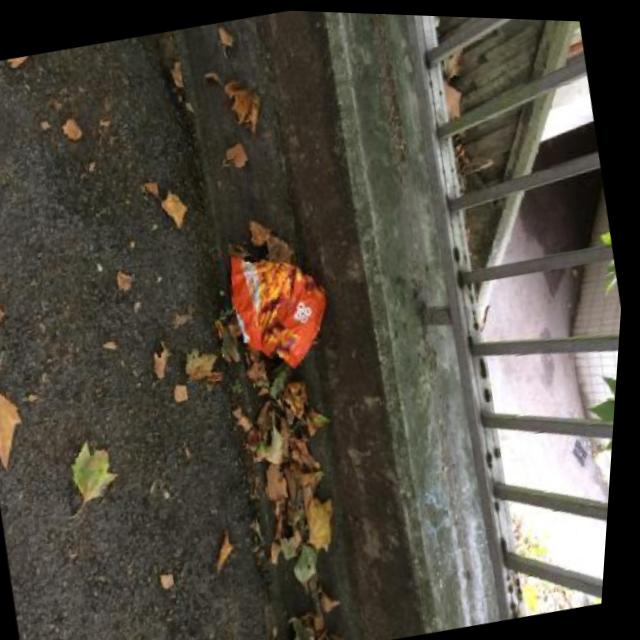plastic: (214, 234, 341, 381)
